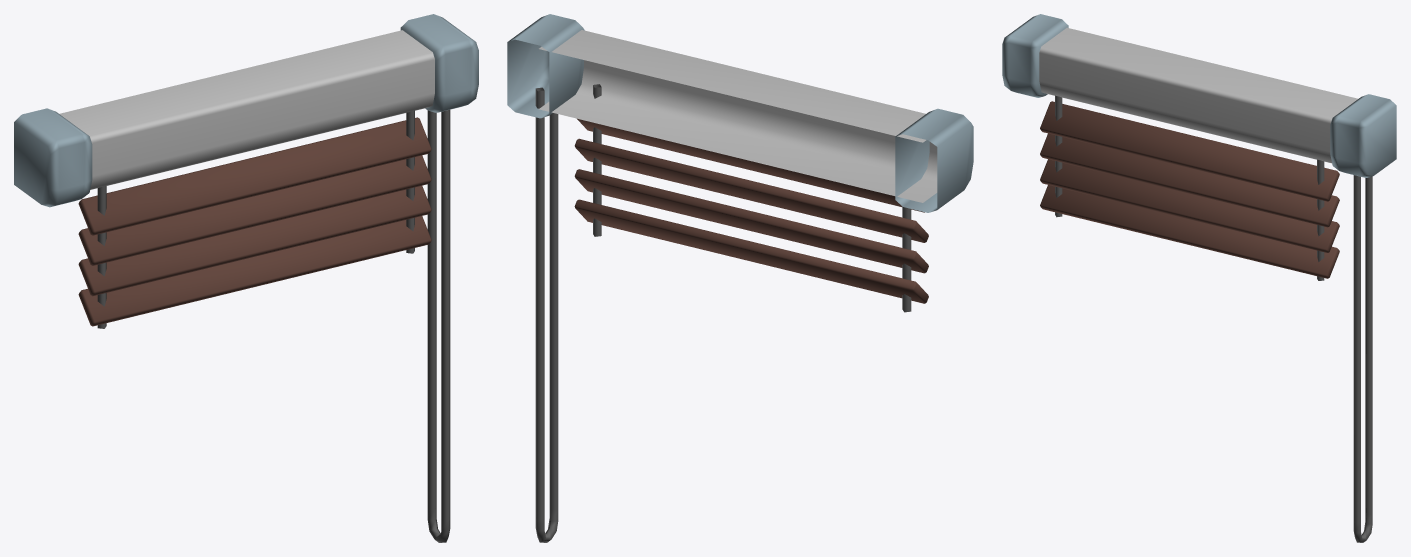
File: curtain_007.fbx
The picture shows the model from 3 angles, left to right: view 1: azimuth 30°, elevation 25°; view 2: azimuth 150°, elevation 25°; view 3: azimuth 330°, elevation 25°; orthographic projection. The views are drawn at different scales.
Parts seen in each view (by area): view 1: curtain_007; view 2: curtain_007; view 3: curtain_007.
Part boxes in pixels (<box>): curtain_007: <box>14,14,478,542</box>; curtain_007: <box>507,14,973,542</box>; curtain_007: <box>1002,14,1396,542</box>.
Bounding box in the file's own units: 200 × 30.34 × 229.
